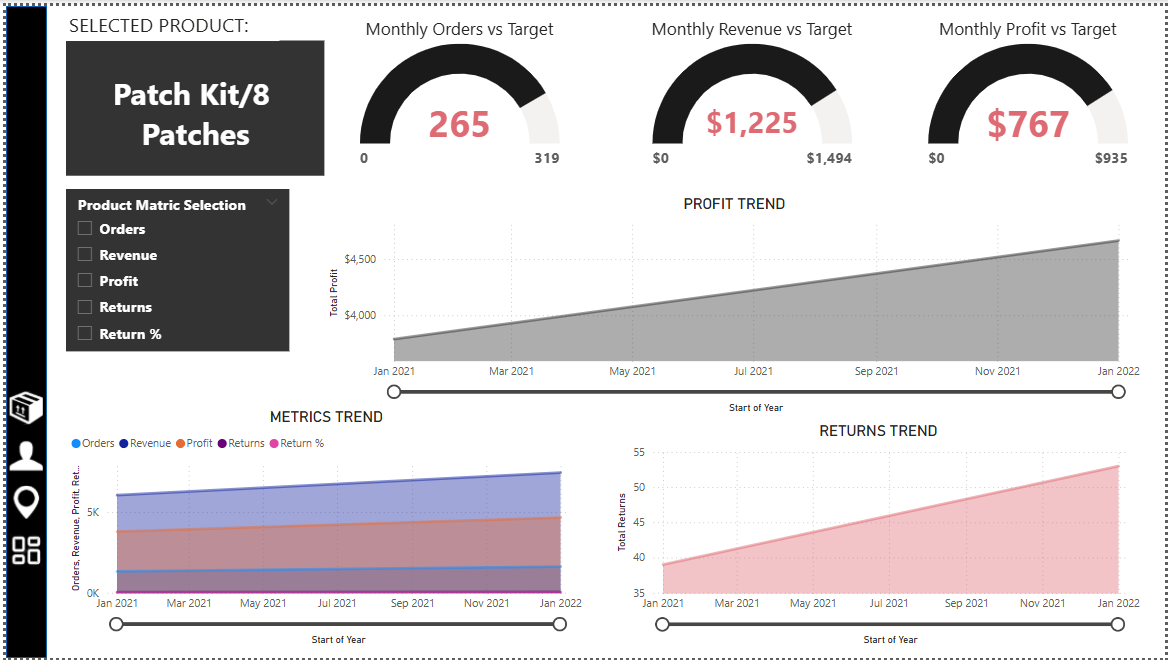

The dashboard page shown, as its layout file describes it:
{"tool":"powerbi","page":{"name":"Product","canvas":[1280,720],"ordinal":7},"visuals":[{"type":"gauge","title":"Monthly Orders vs Target","fields":{"Y":["Table Measure.Total Orders"],"MaxValue":["Table Measure.Order Target"]},"box":[361.5,12,279.3,176.3],"z":0},{"type":"actionButton","box":[0,573.9,44.8,52.3],"z":0,"group":"g1"},{"type":"gauge","title":"Monthly Profit vs Target","fields":{"Y":["Table Measure.Total Profit"],"MaxValue":["Table Measure.Profit Target"]},"box":[989.4,12,279,176.3],"z":1000},{"type":"actionButton","box":[0,469.4,44.8,52.3],"z":1000,"group":"g1"},{"type":"gauge","title":"Monthly Revenue vs Target","fields":{"Y":["Table Measure.Total Revenue"],"MaxValue":["Table Measure.Target Revenue"]},"box":[684.1,12,279.3,176.3],"z":2000},{"type":"actionButton","box":[0,521.7,44.8,52.3],"z":2000,"group":"g1"},{"type":"actionButton","box":[0,417.1,44.8,52.3],"z":3000,"group":"g1"},{"type":"areaChart","title":"PROFIT TREND","fields":{"Y":["Table Measure.Total Profit"],"Category":["Calendar Lookup.Start of Year Hierarchy.Start of Year","Calendar Lookup.Start of Year Hierarchy.Start of Month","Calendar Lookup.Start of Year Hierarchy.Start of Week","Calendar Lookup.Start of Year Hierarchy.Date"]},"box":[351.2,208.7,906.1,245.2],"z":3000},{"type":"areaChart","title":"RETURNS TREND","fields":{"Y":["Table Measure.Total Returns"],"Category":["Calendar Lookup.Start of Year","Calendar Lookup.Start of Month","Calendar Lookup.Start of Week"]},"box":[669.2,458.8,588.1,251.8],"z":4000},{"type":"card","fields":{"Values":["Min(Product Lookup.ProductName)"]},"box":[65.7,38.8,285.3,149.4],"z":5000},{"type":"shape","box":[0,0,45.1,720.1],"z":6000},{"type":"textbox","box":[64.2,0,237.5,38.8],"z":7000},{"type":"group","id":"g1","title":"Custom Navigation Button","box":[0,417.1,45.1,209],"z":8000},{"type":"slicer","fields":{"Values":["Product Matric Selection.Product Matric Selection"]},"box":[65.6,201.3,246.5,179.1],"z":9000},{"type":"areaChart","title":"METRICS TREND","fields":{"Y":["Table Measure.Total Orders"],"Category":["Calendar Lookup.Start of Year","Calendar Lookup.Start of Month","Calendar Lookup.Start of Week"]},"box":[66.3,443.9,574.8,266.7],"z":10000}]}

Visuals, with their boxes on the page's 1280x720 design canvas (x1, y1, x2, y2). These are canvas units, not pixel positions in the 1168x660 screenshot, which may show the page scaled, cropped or inside an application window:
"Monthly Orders vs Target" gauge: rect(362, 12, 641, 188)
actionButton: rect(0, 574, 45, 626)
"Monthly Profit vs Target" gauge: rect(989, 12, 1268, 188)
actionButton: rect(0, 469, 45, 522)
"Monthly Revenue vs Target" gauge: rect(684, 12, 963, 188)
actionButton: rect(0, 522, 45, 574)
actionButton: rect(0, 417, 45, 469)
"PROFIT TREND" areaChart: rect(351, 209, 1257, 454)
"RETURNS TREND" areaChart: rect(669, 459, 1257, 711)
card - Min(Product Lookup.ProductName): rect(66, 39, 351, 188)
shape: rect(0, 0, 45, 720)
textbox: rect(64, 0, 302, 39)
"Custom Navigation Button" group: rect(0, 417, 45, 626)
slicer - Product Matric Selection.Product Matric Selection: rect(66, 201, 312, 380)
"METRICS TREND" areaChart: rect(66, 444, 641, 711)
